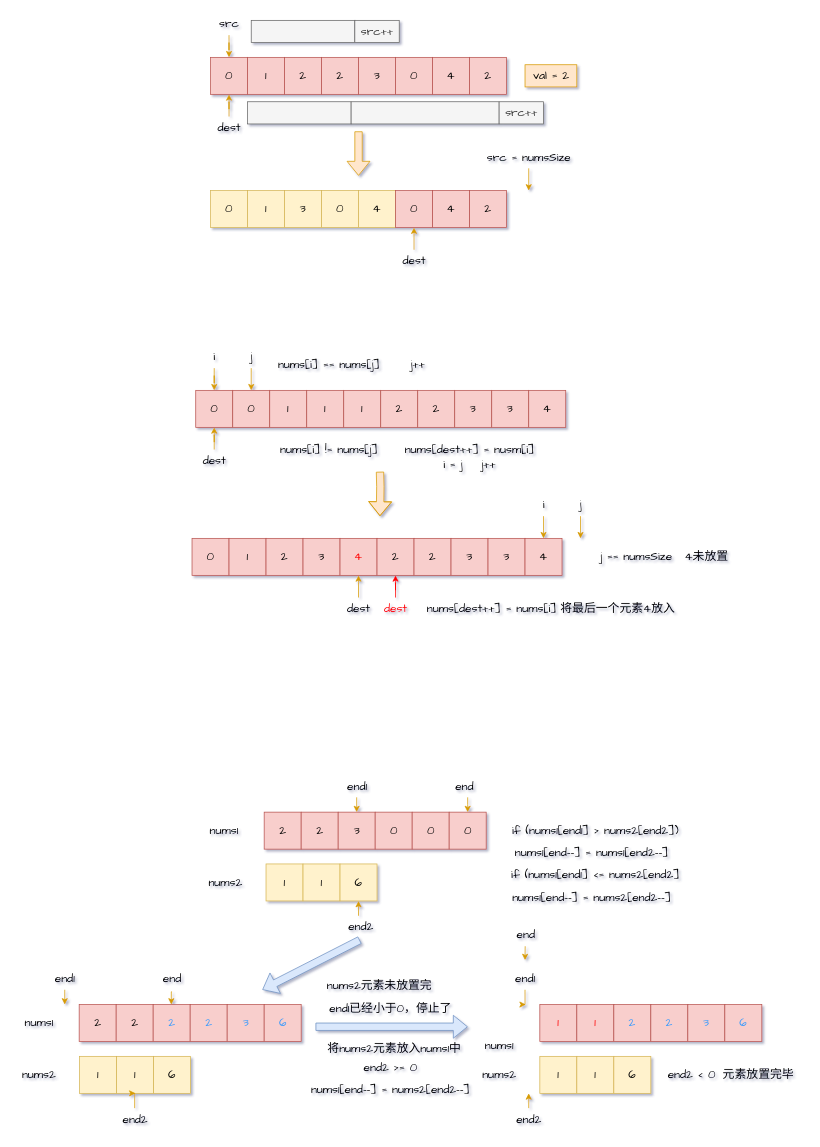
Image size: 820x1147. Some labels were removed from this diagram. The centre of each missing label's shape, as x and y in pixels:
"nums[dest++] = num[src]" goes at [424,112].
"nums[src] != val" goes at [299,112].
"nums[src] == val" goes at [302,31].
